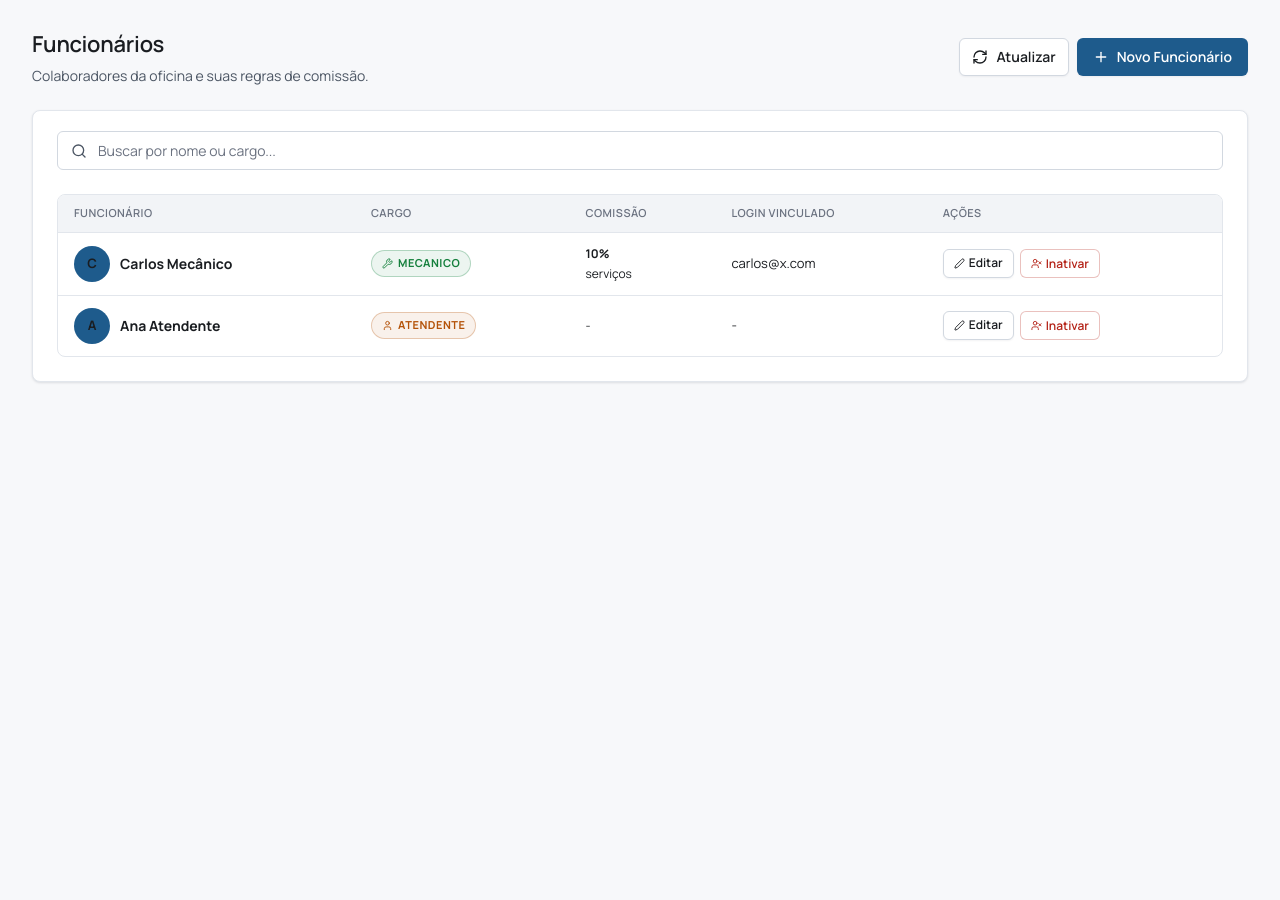
Funcionarios — validação e clamp da comissão › deve_rejeitar_cargo_vazio_antes_de_chamar_o_banco
Expected: the text "Carlos Mecânico" is shown, [120,253,232,274]
Click the button "Novo Funcionário".
click(1162, 57)  # box [1077,38,1248,76]
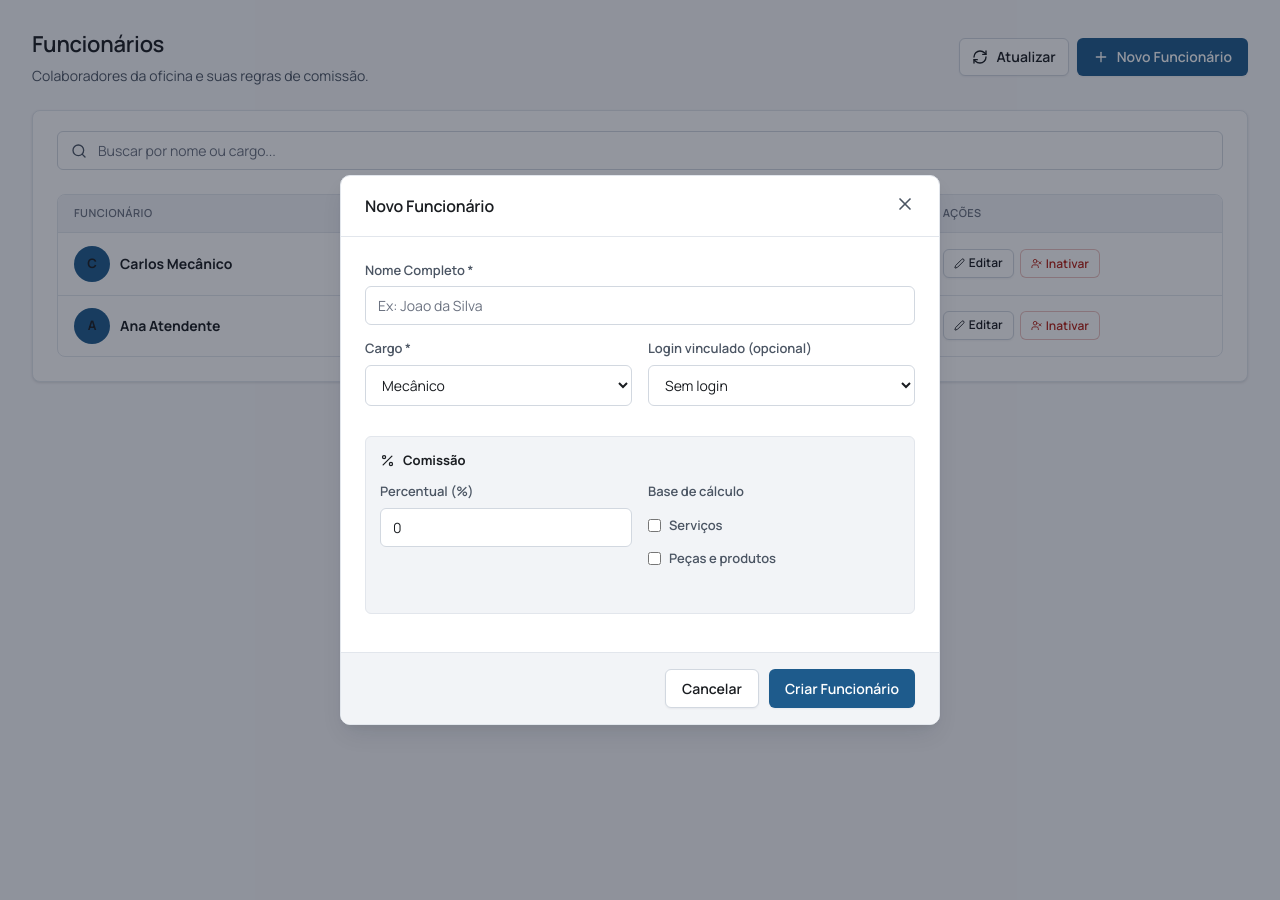
Type "Novo Func" into the field with placeholder "Ex: Joao da Silva".
click(640, 306); type("Novo Func")  # box [365,286,915,325]
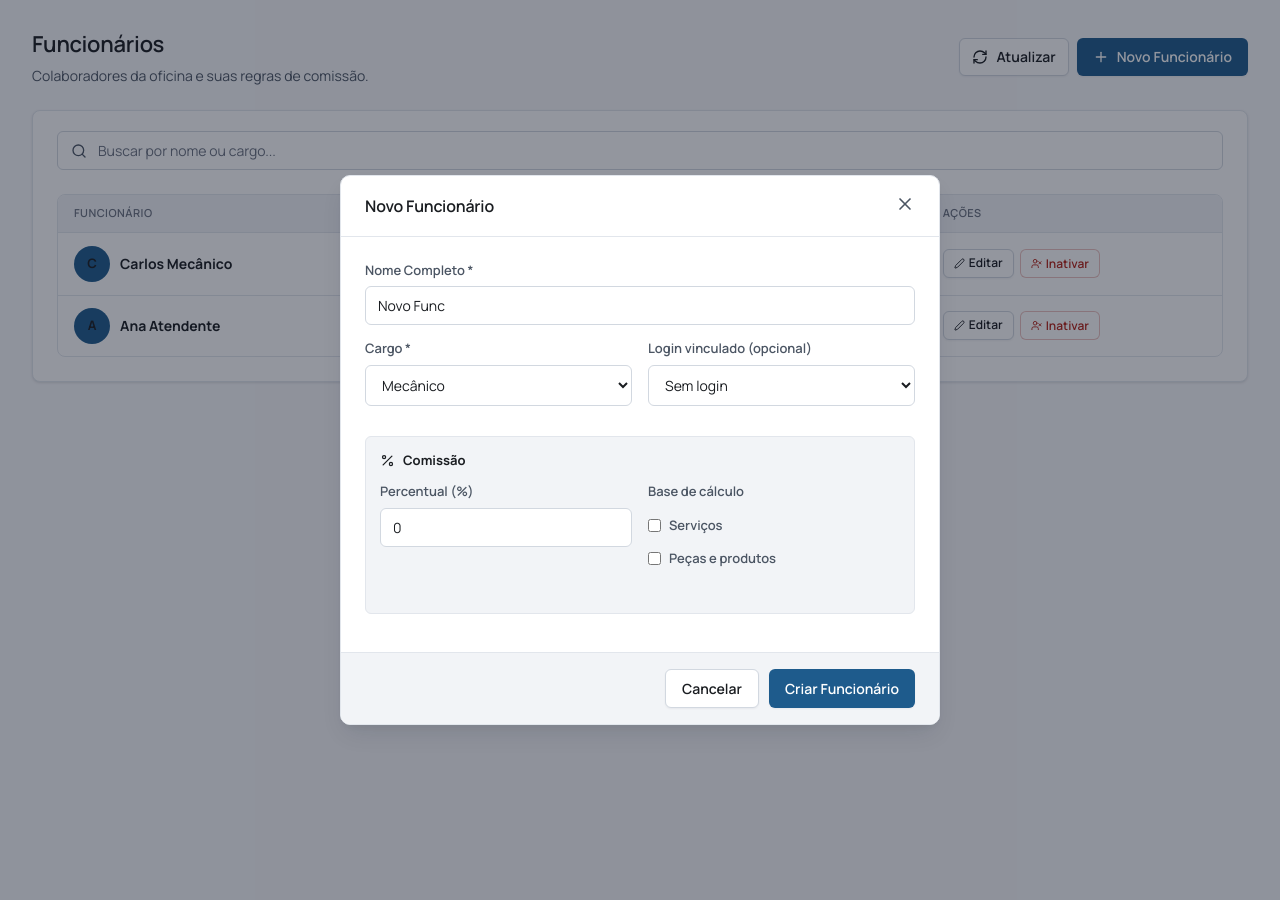
Select "" in the dropdown below "Cargo *" at (498, 385), box [365,365,632,406]
Submit the form named "Criar Funcionário", box [341,237,939,724]
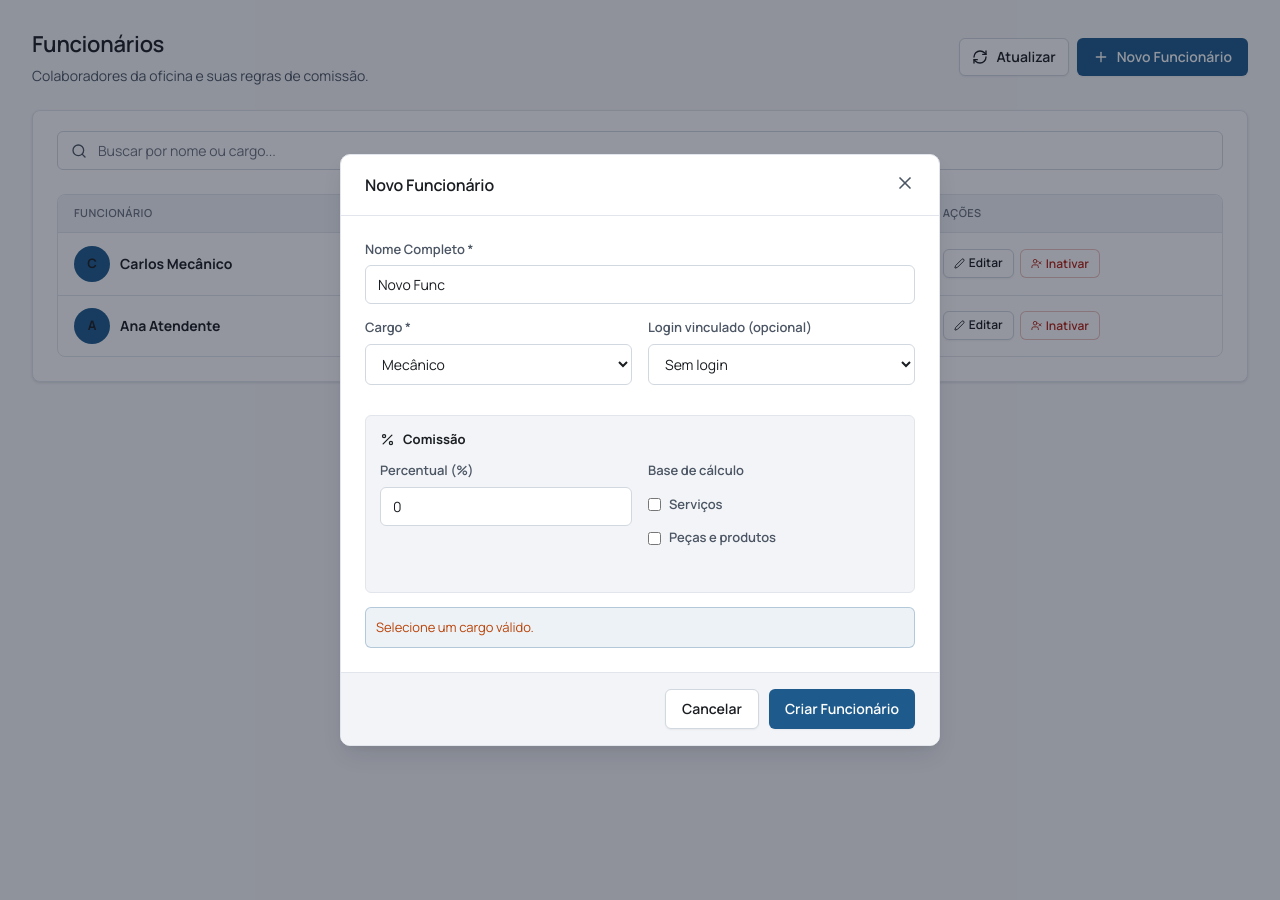
Expected: the text "Selecione um cargo válido." is shown, [365,607,915,648]
